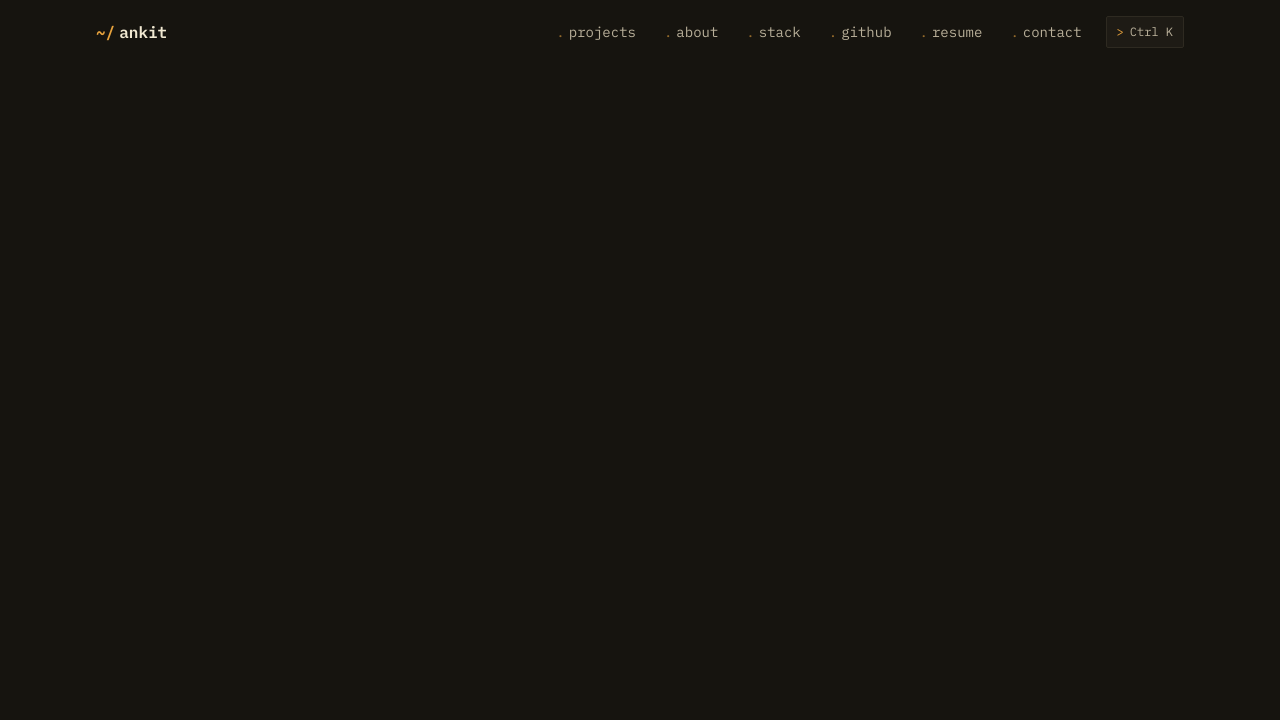
Test: CommandPalette Component › opens when the Navbar "Ctrl K" button is clicked
Click the button with aria-label "open command palette" at (1145, 32), box [1106,16,1184,48]
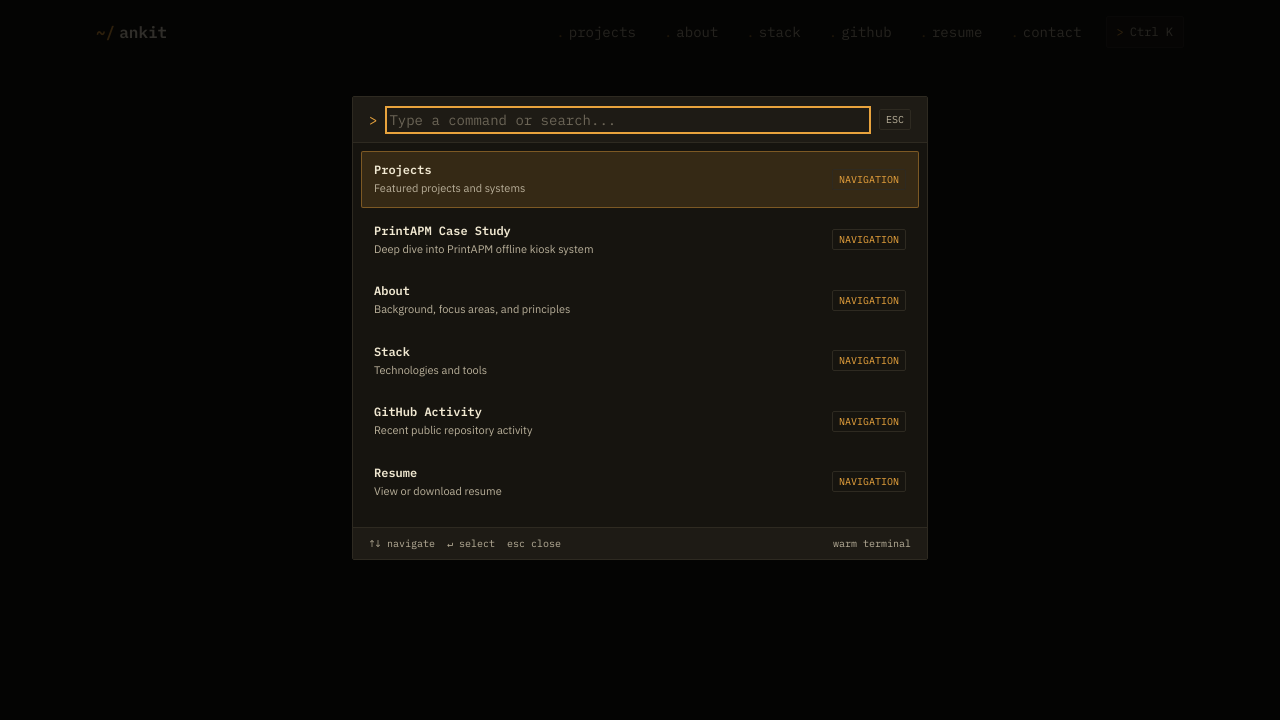
expect the dialog named "command palette" is shown: met, box [352,96,928,560]
